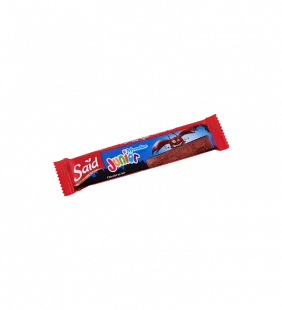JUNIOR SAID: (45, 108, 236, 203)
